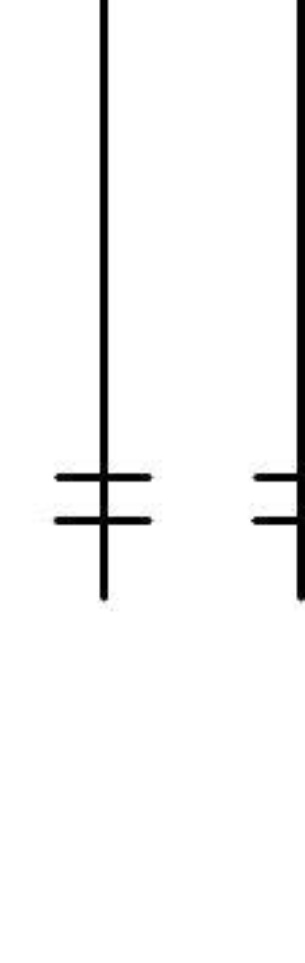115_buffer: (53, 473, 154, 526)
